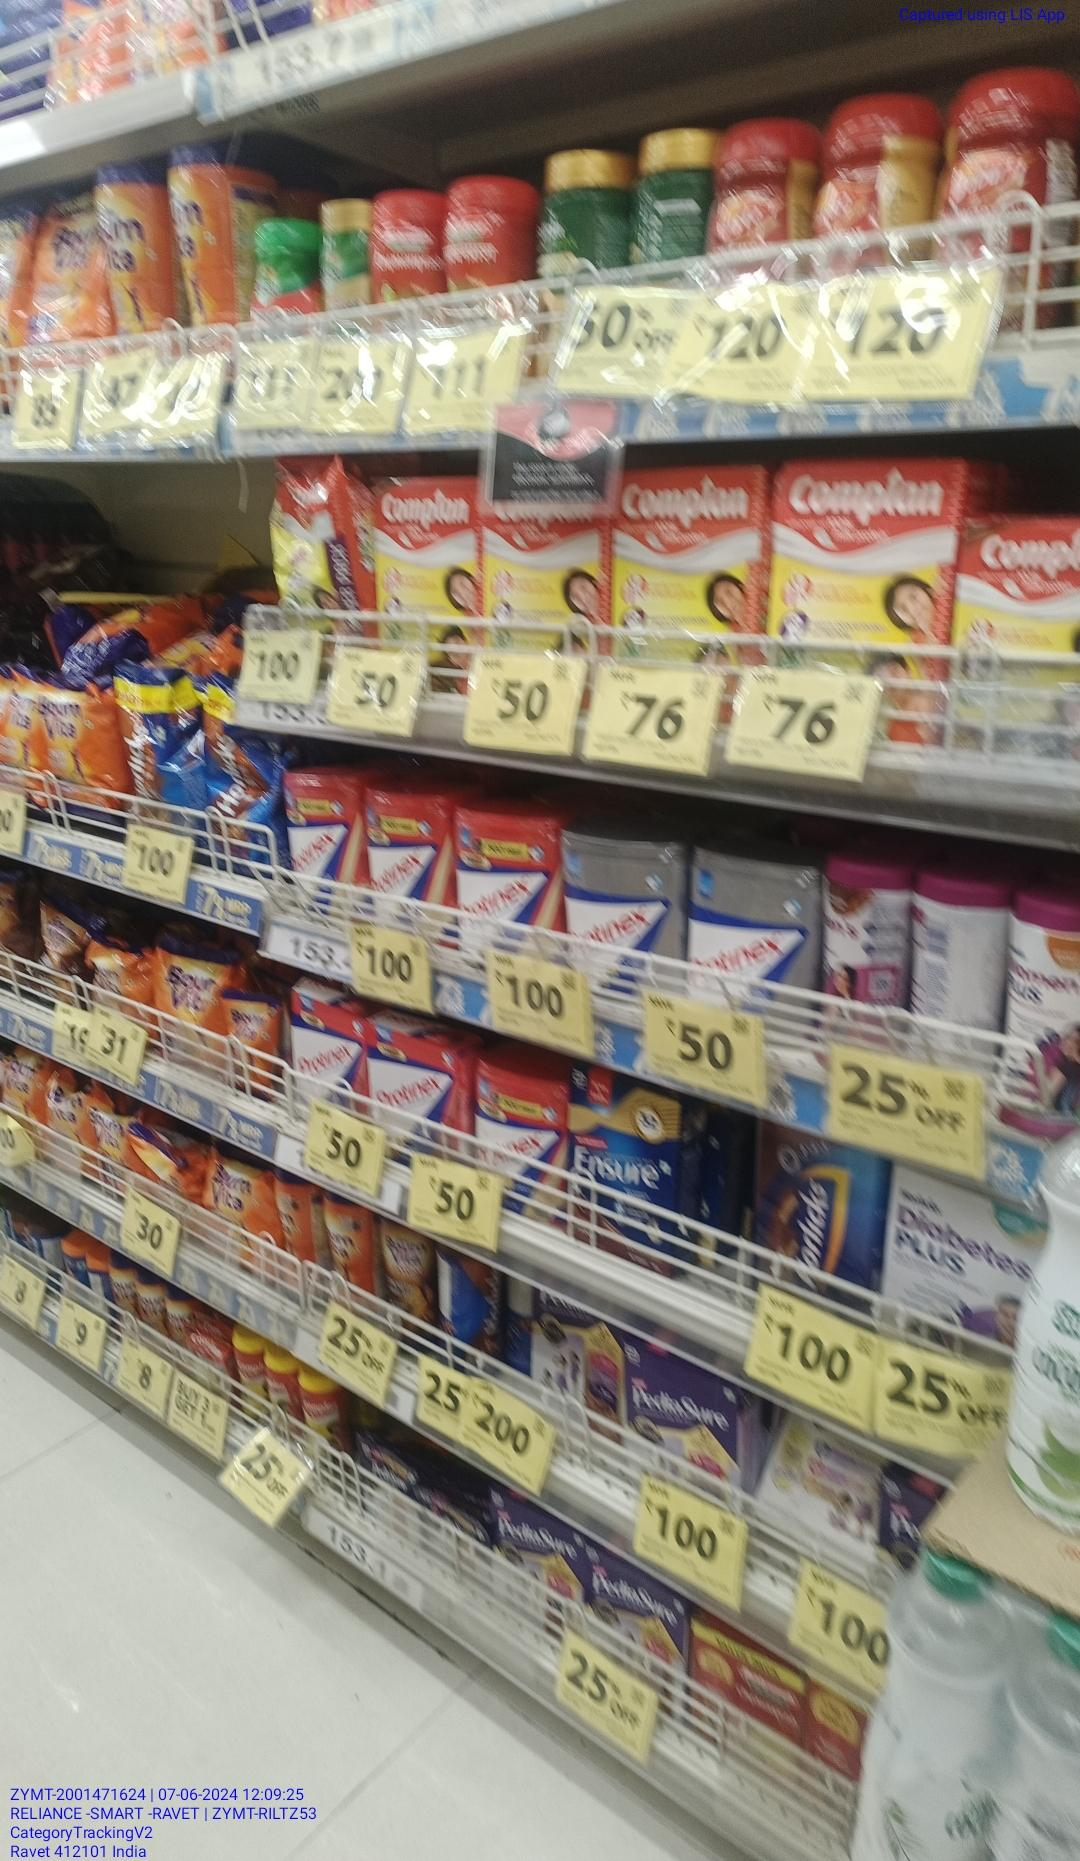PROTINEX_ORIGINAL_400_G_JAR: (685, 874, 827, 977), (579, 842, 679, 955)
PROTINEX_VANILLA_400_G_JAR: (451, 824, 571, 933), (368, 785, 454, 902), (291, 771, 354, 898)
